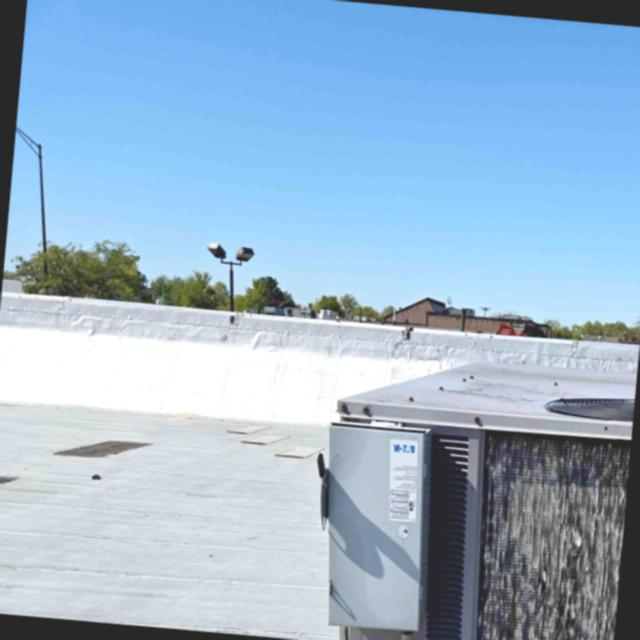RTU: (295, 335, 637, 640)
